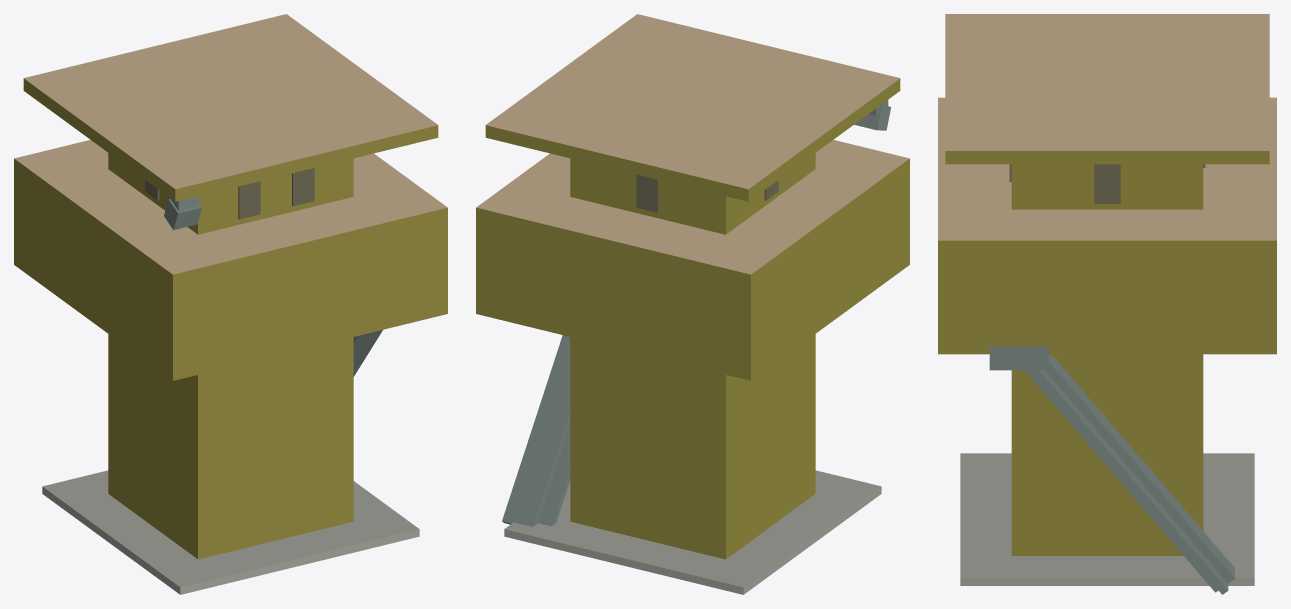
The model's file is SM_TorretaVigia_v1_LOD1.fbx.
3 views of the same model, side by side, from view 1: azimuth 30°, elevation 25°; view 2: azimuth 150°, elevation 25°; view 3: azimuth 270°, elevation 25° (orthographic). The views are drawn at different scales.
Visible parts, largest first — view 1: SM_torreta_vigia_v1_LOD1; view 2: SM_torreta_vigia_v1_LOD1; view 3: SM_torreta_vigia_v1_LOD1.
Boxes of the visible parts, <box> form: SM_torreta_vigia_v1_LOD1: <box>14,14,447,594</box>; SM_torreta_vigia_v1_LOD1: <box>476,14,909,594</box>; SM_torreta_vigia_v1_LOD1: <box>938,14,1276,594</box>.
Size of the model in its own units: 4.65 by 6.7 by 4.6.
